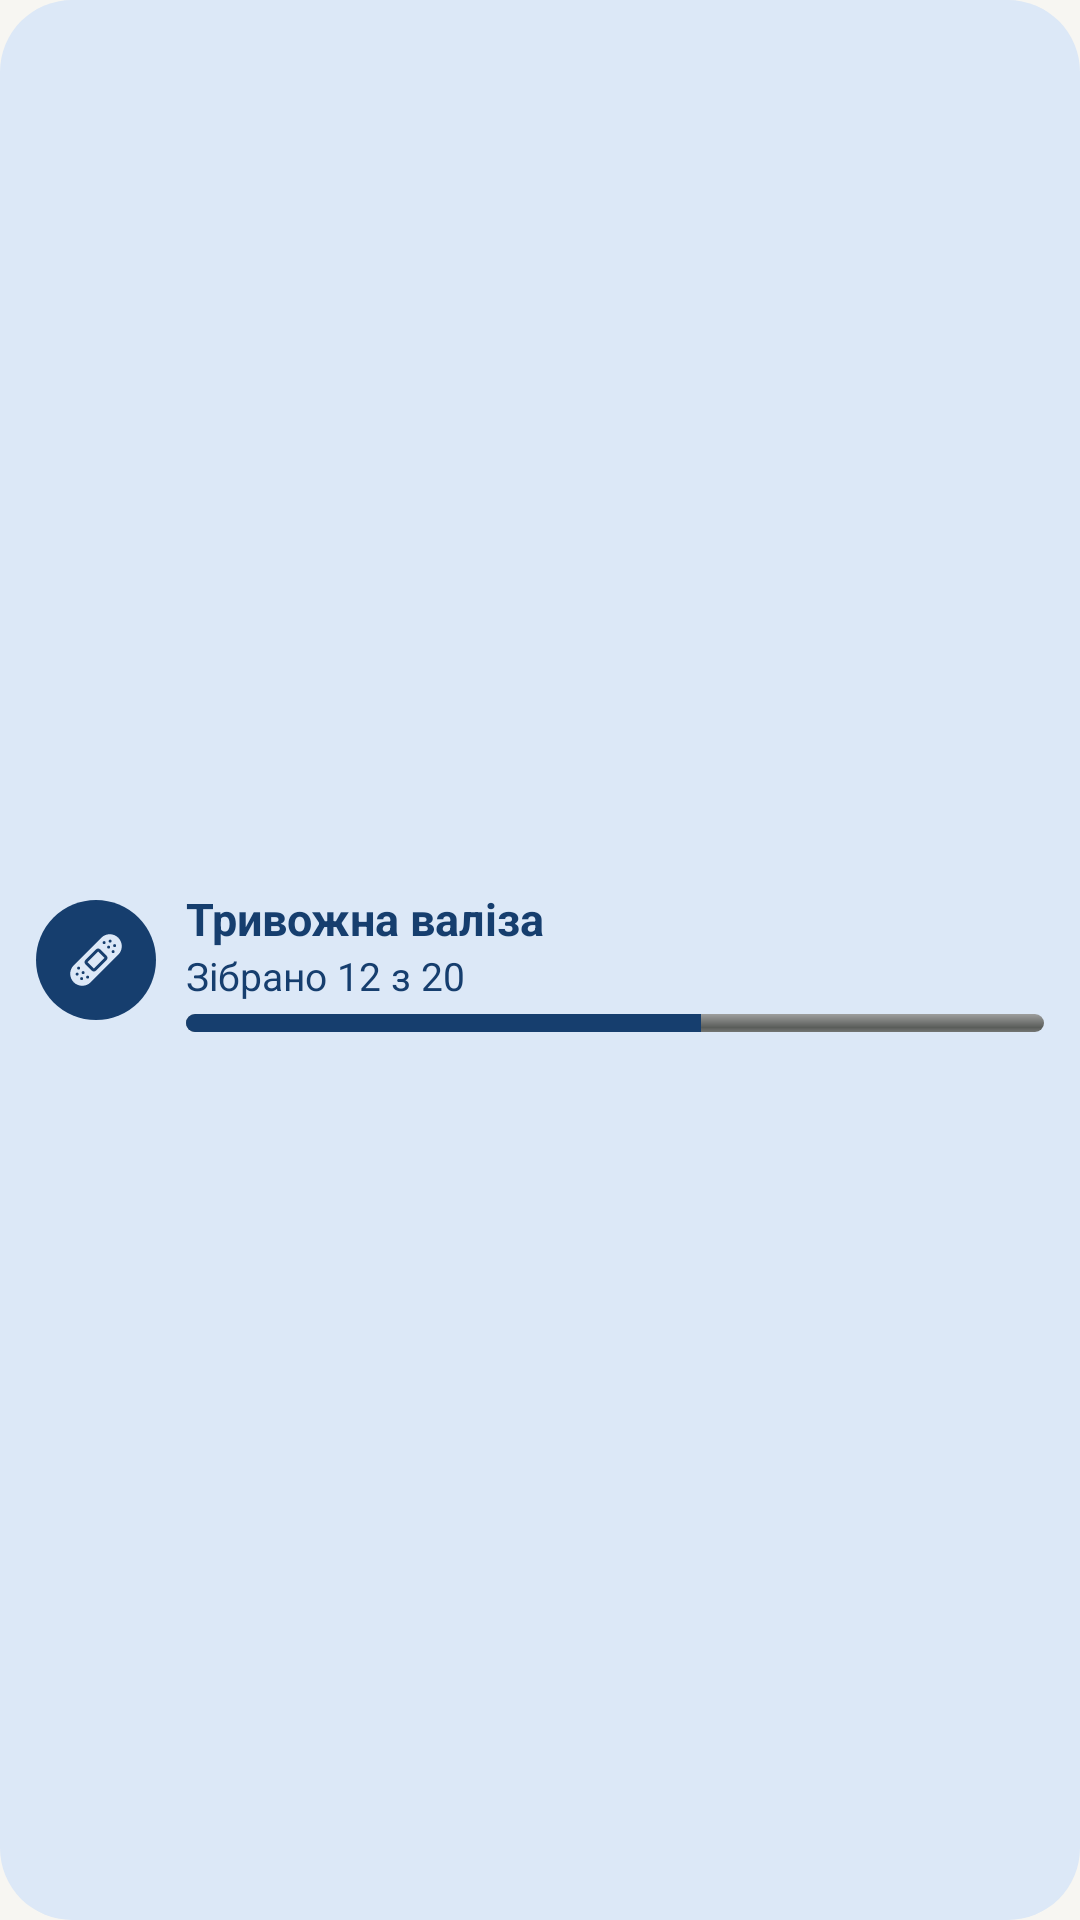

Named icons in this screenshot (1080w x 1920h) and their centers, (x=x, y=y):
hi bandage adhesive: (x=96, y=960)
